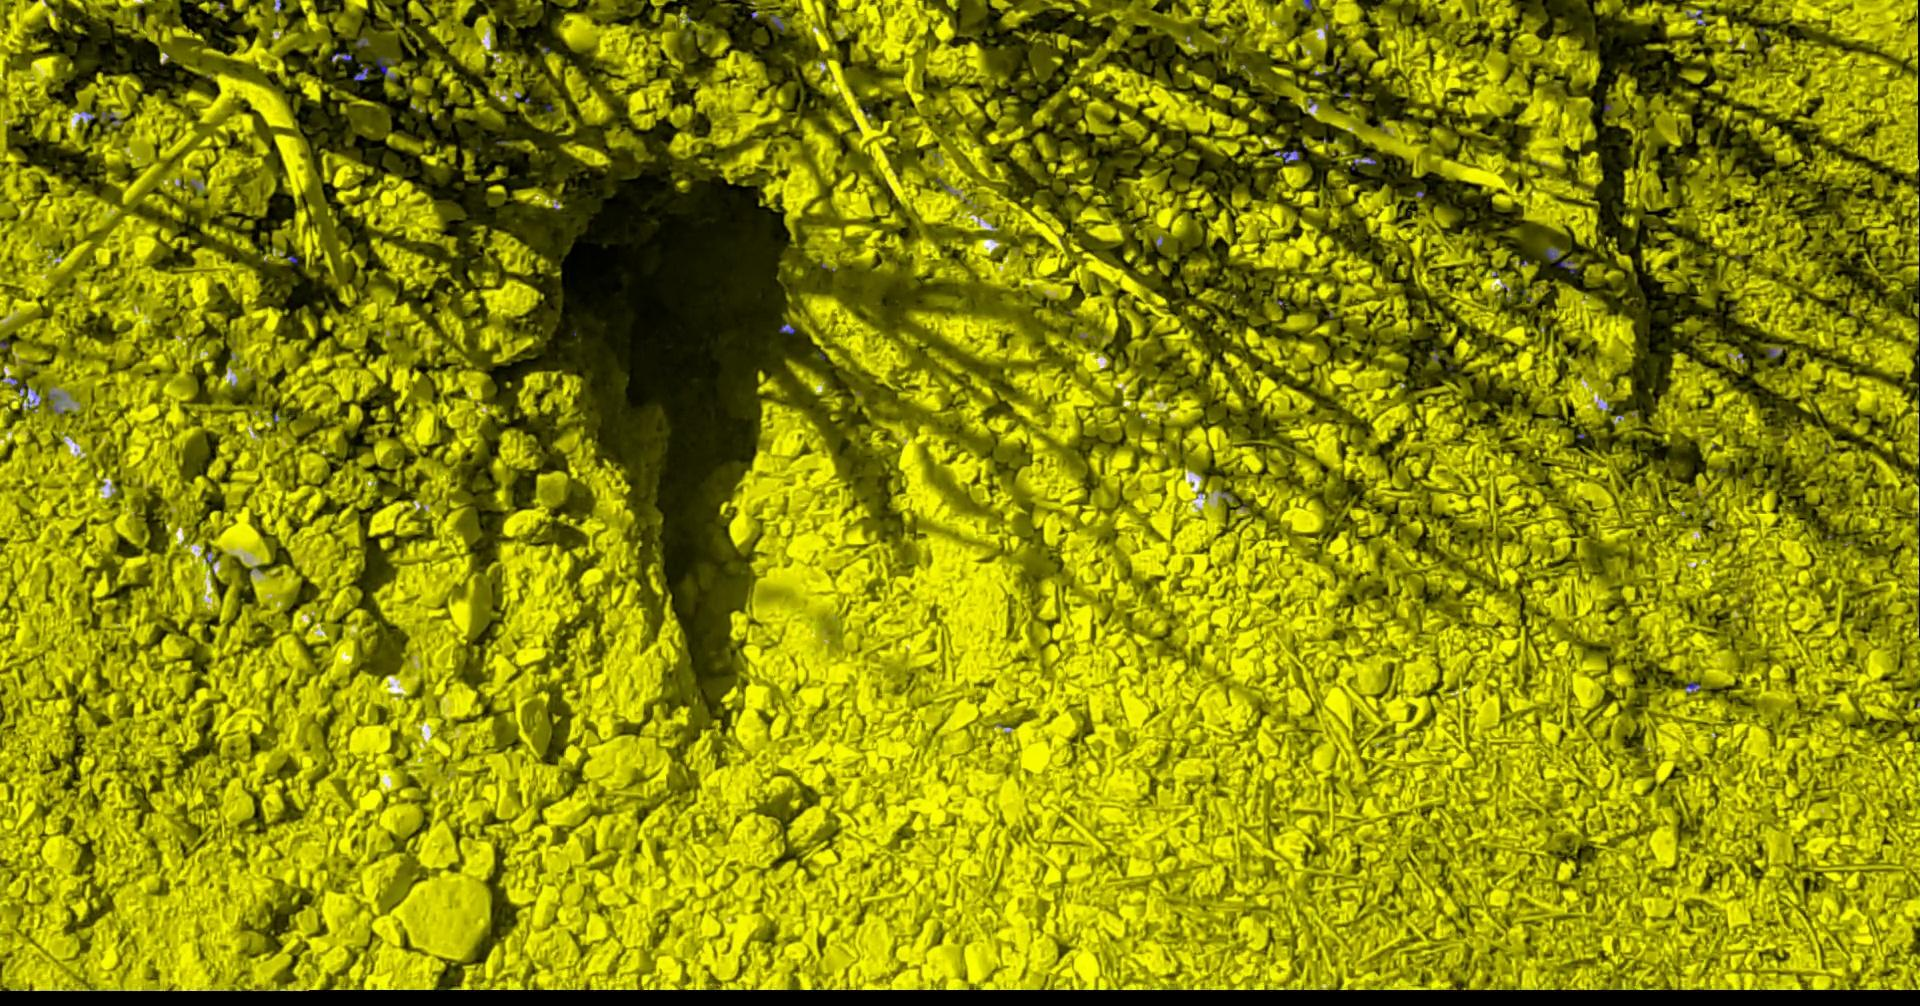ant: (1543, 246, 1572, 267), (1272, 149, 1299, 163), (376, 55, 392, 76), (1686, 8, 1705, 25), (352, 62, 368, 80), (770, 14, 783, 30)
